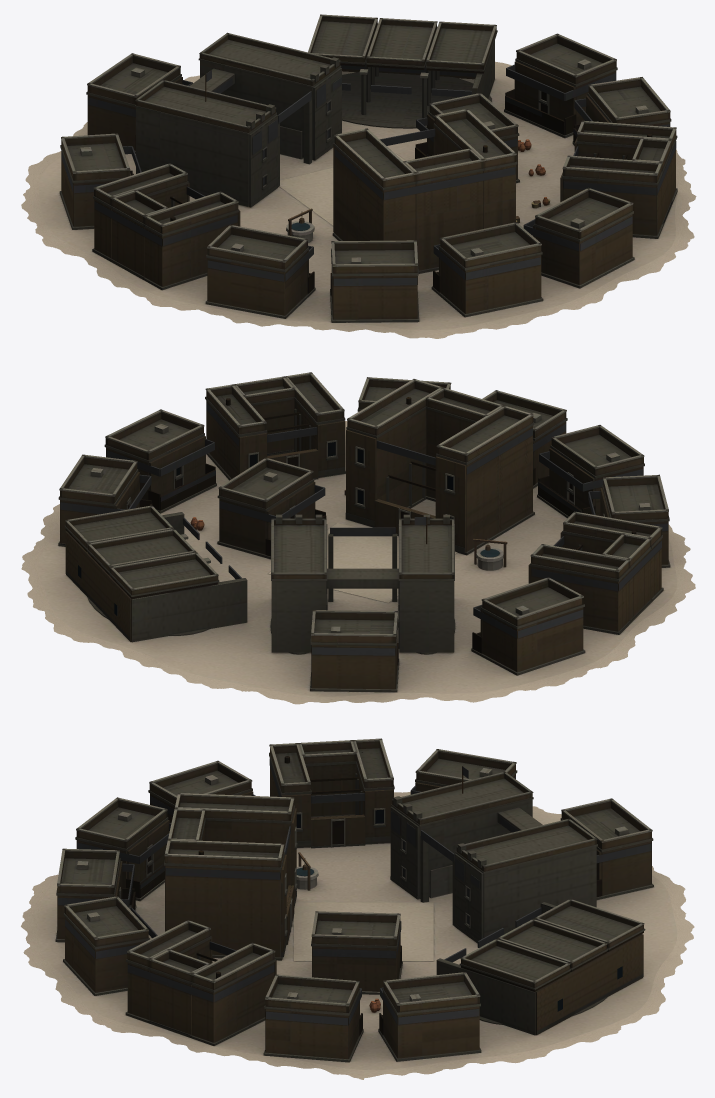
File: bronze-town-medium-a-israelite.glb
3 views of the same model, one above another, from view 1: azimuth 30°, elevation 25°; view 2: azimuth 150°, elevation 25°; view 3: azimuth 270°, elevation 25° (orthographic).
Parts seen in each view (by area): view 1: LOD0; view 2: LOD0; view 3: LOD0.
Part boxes in pixels (x1,y1,x2,y2): LOD0: (21, 14, 696, 338); LOD0: (21, 372, 695, 704); LOD0: (21, 738, 694, 1079).
Size of what is drawn, in the model's own units: 5.99 by 1.08 by 5.91.
Materials: 3 (3 with a texture image).
